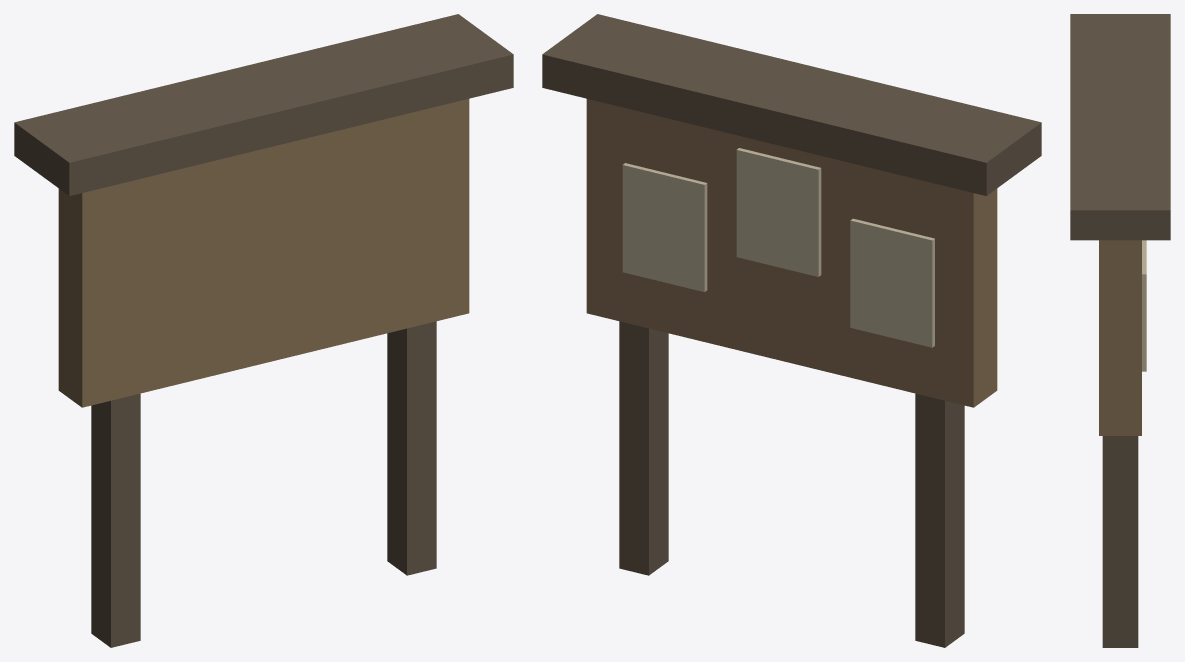
The model's file is Decor_NoticeBoard.fbx.
3 views of the same model, side by side, from view 1: azimuth 30°, elevation 25°; view 2: azimuth 150°, elevation 25°; view 3: azimuth 270°, elevation 25° (orthographic). The views are drawn at different scales.
Visible parts, largest first — view 1: Decor_NoticeBoard; view 2: Decor_NoticeBoard; view 3: Decor_NoticeBoard.
Part boxes in pixels (x1=…): Decor_NoticeBoard: x1=14, y1=14, x2=513, y2=647; Decor_NoticeBoard: x1=542, y1=14, x2=1041, y2=647; Decor_NoticeBoard: x1=1070, y1=14, x2=1170, y2=647.
Bounding box in the file's own units: 1.95 × 2.15 × 0.42.
